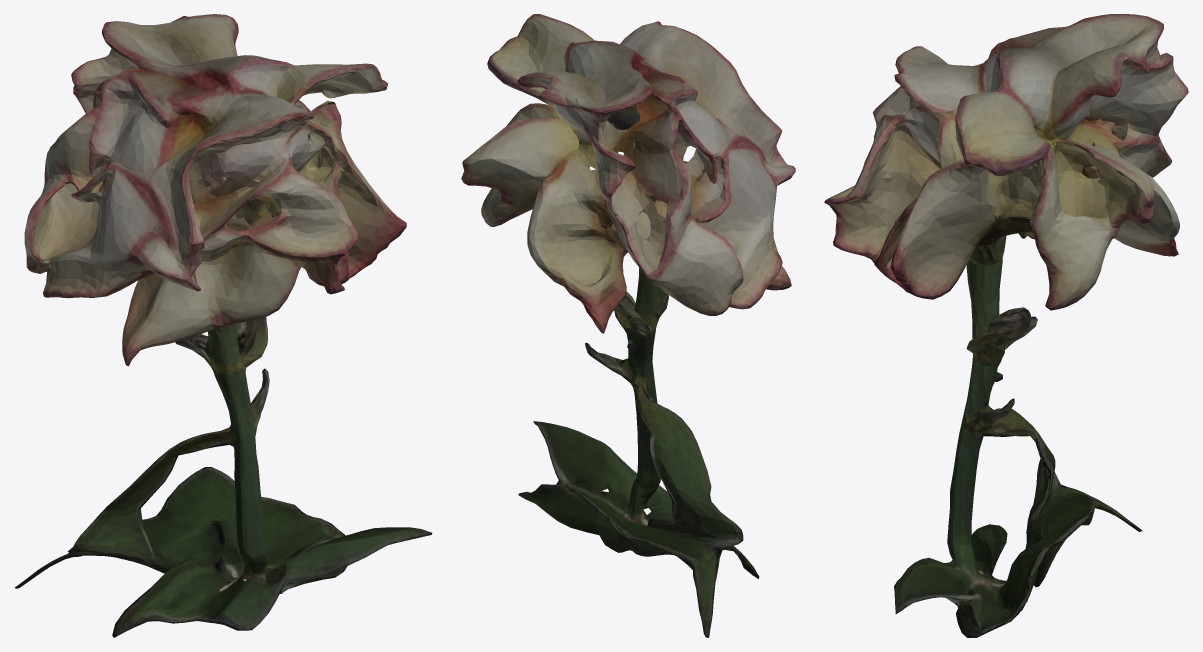
3 renders of one model, left to right at view 1: azimuth 30°, elevation 25°; view 2: azimuth 150°, elevation 25°; view 3: azimuth 270°, elevation 25°, orthographic. The views are drawn at different scales.
Visible parts, largest first — view 1: world; view 2: world; view 3: world.
Boxes of the visible parts, left/top/right/bottom form: world: left=15, top=14, right=432, bottom=637; world: left=461, top=14, right=795, bottom=637; world: left=824, top=14, right=1188, bottom=637.
Size of the model in its own units: 0.5703 by 0.935 by 0.5492.
Materials: 1 (1 with a texture image).
